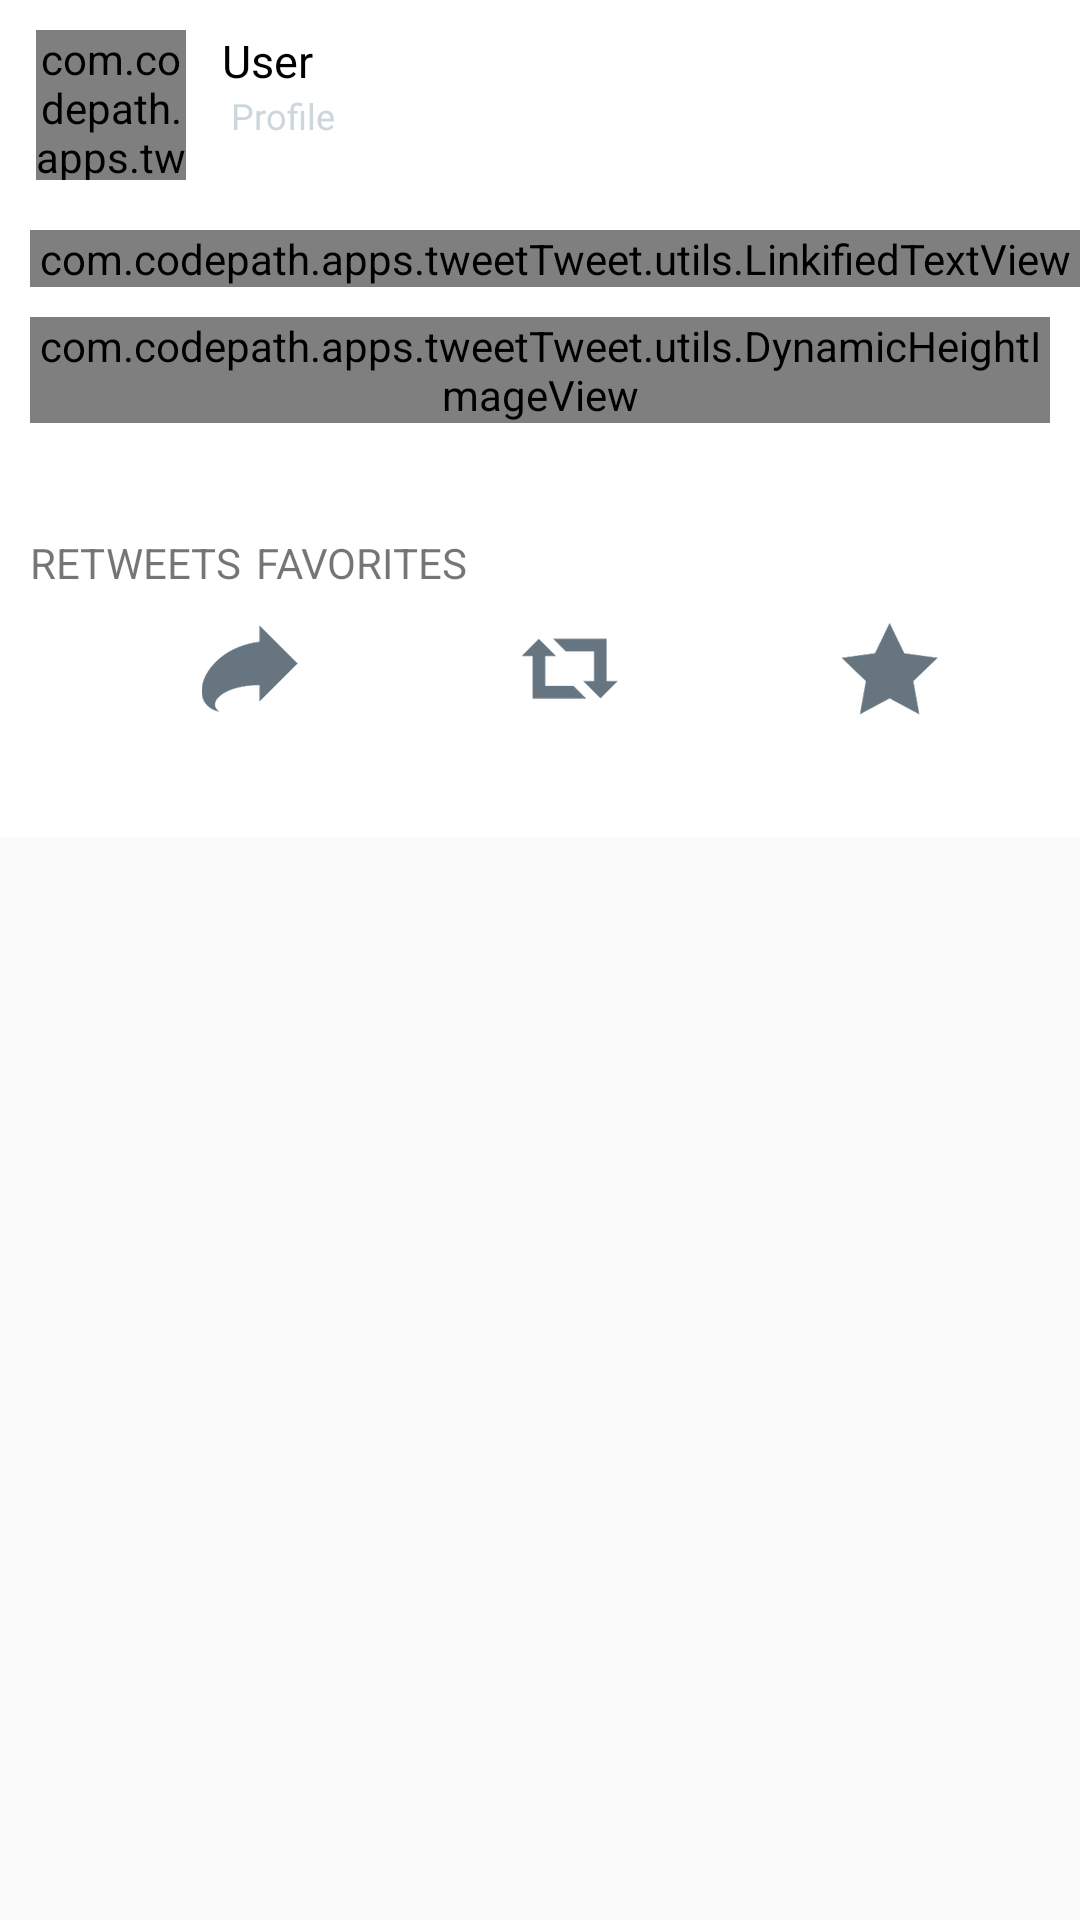

Where icons sit on this 1080px×1920px app screen, as (x1, y1, x2, y2):
reply: (202, 626, 298, 712)
retweet: (522, 638, 618, 699)
star: (842, 623, 938, 714)
